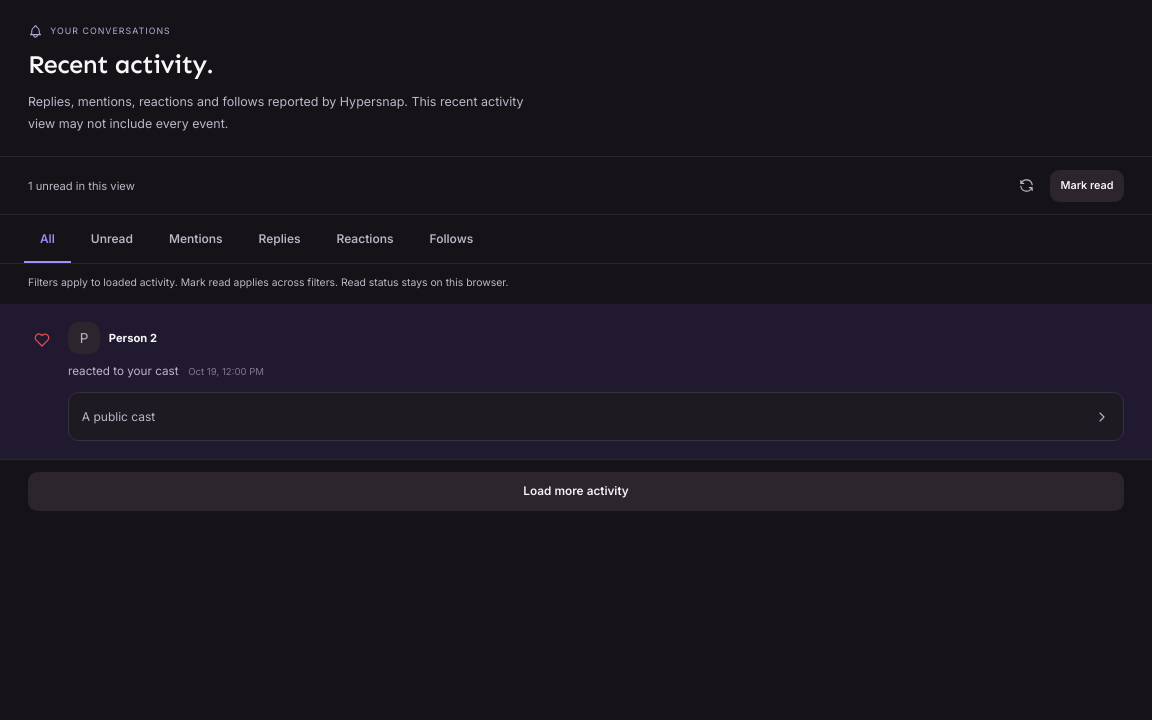
isolated feature panels › filters loaded activity locally, keeps continuation available and marks loaded results read across filters
The image size is (1152, 720).
Click the button "Mentions".
click(196, 239)  # box [153,215,239,263]
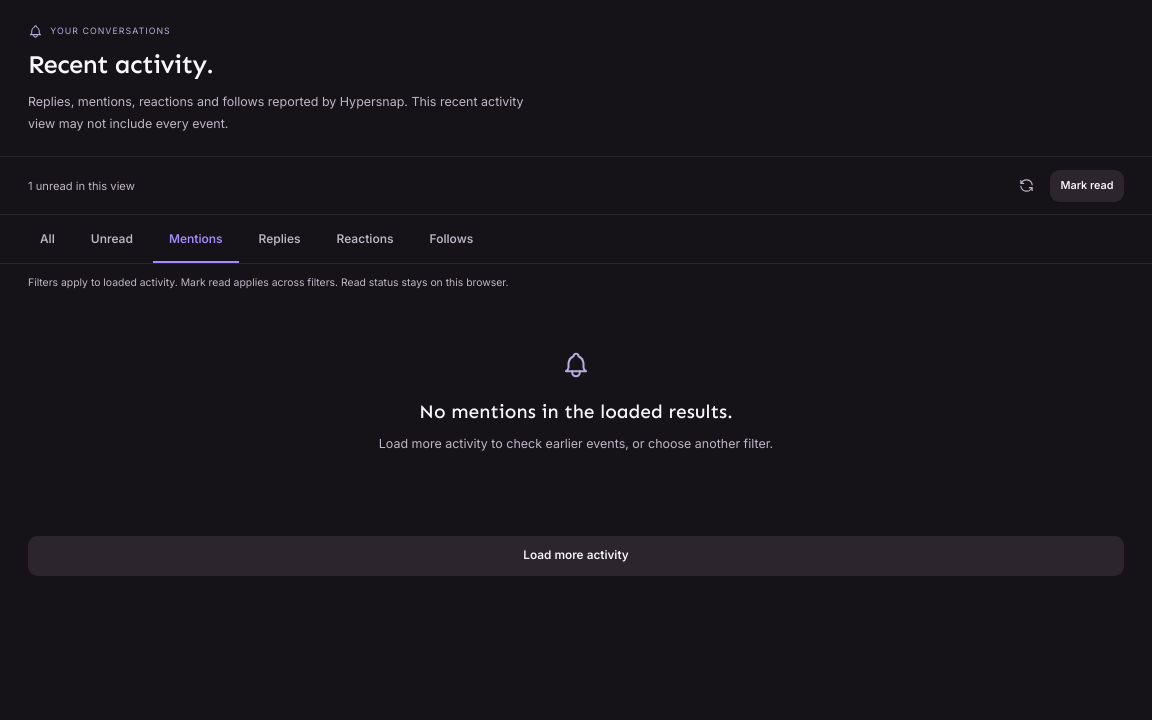
Expected: the text "No mentions in the loaded results." is shown, [419,400,733,423]
Expected: the text "Load more activity to check earlier events" is shown, [379,436,773,451]
Click the button "Load more activity".
click(576, 556)  # box [28,536,1124,576]
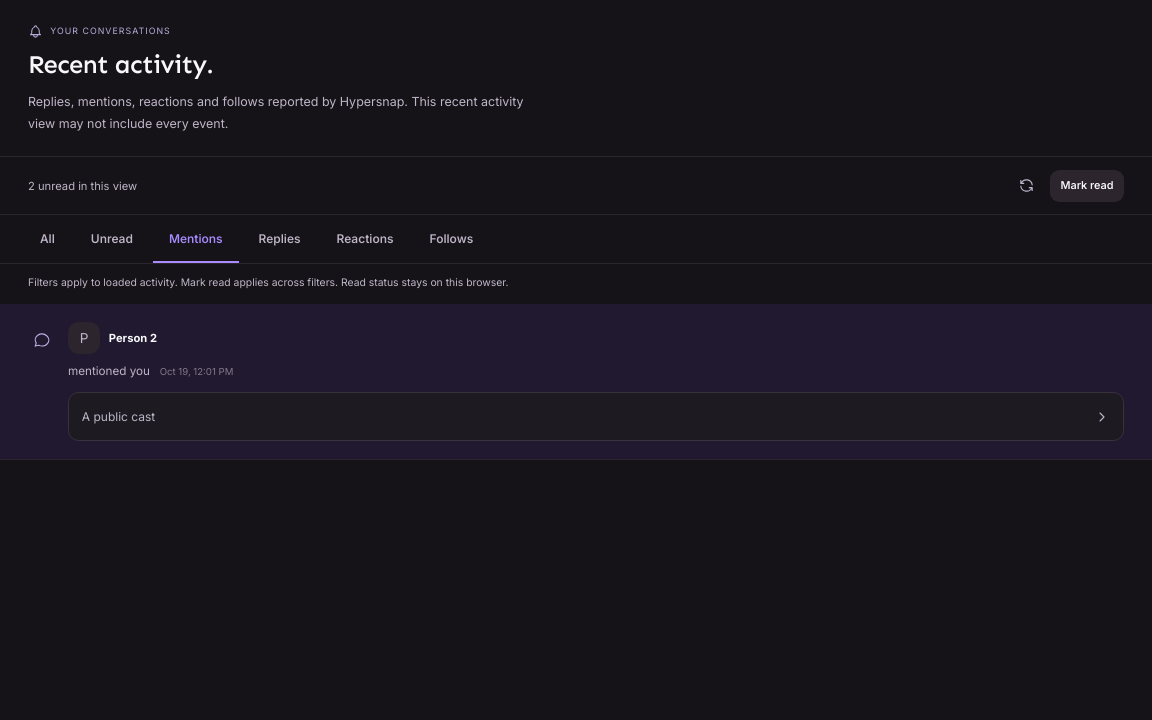
Expected: the number of list items is 1, [0,304,1151,460]
Expected: the list with class "feature-activity" shows "mentioned you", [68,364,150,378]
Click the button "Unread".
click(112, 239)  # box [75,215,149,263]
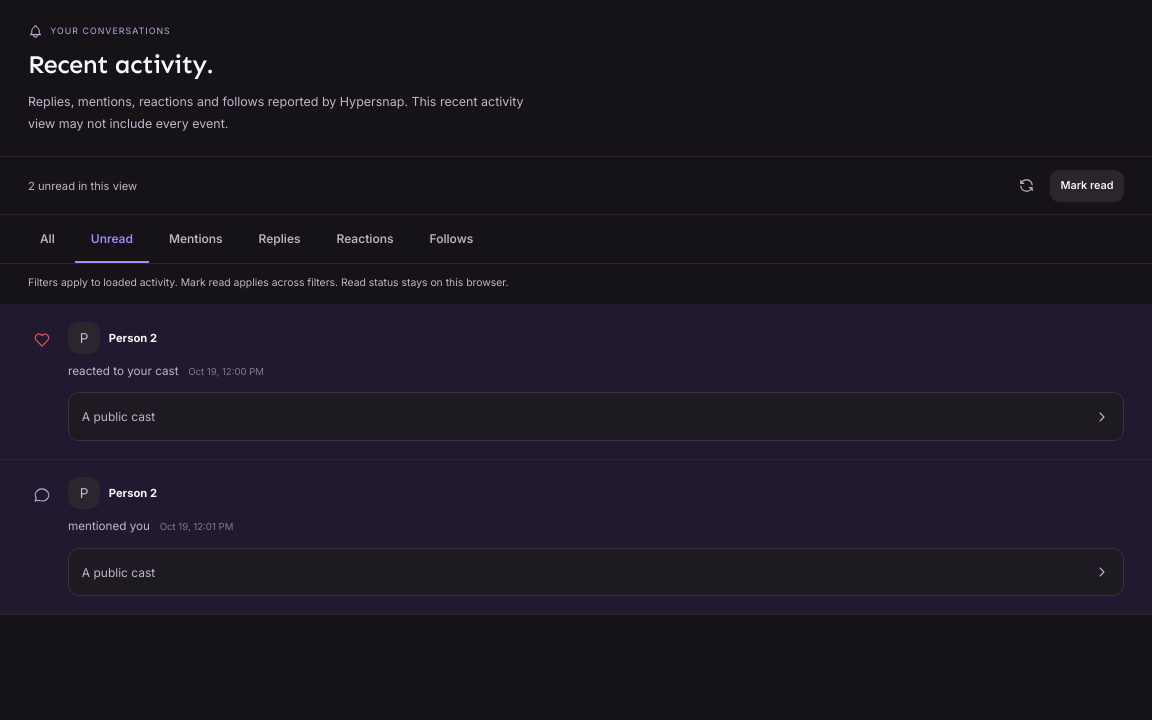
Expected: the number of list items is 2, [0,304,1151,460]; [0,460,1151,615]
Click the button "Mark read".
click(1087, 186)  # box [1050,170,1124,202]
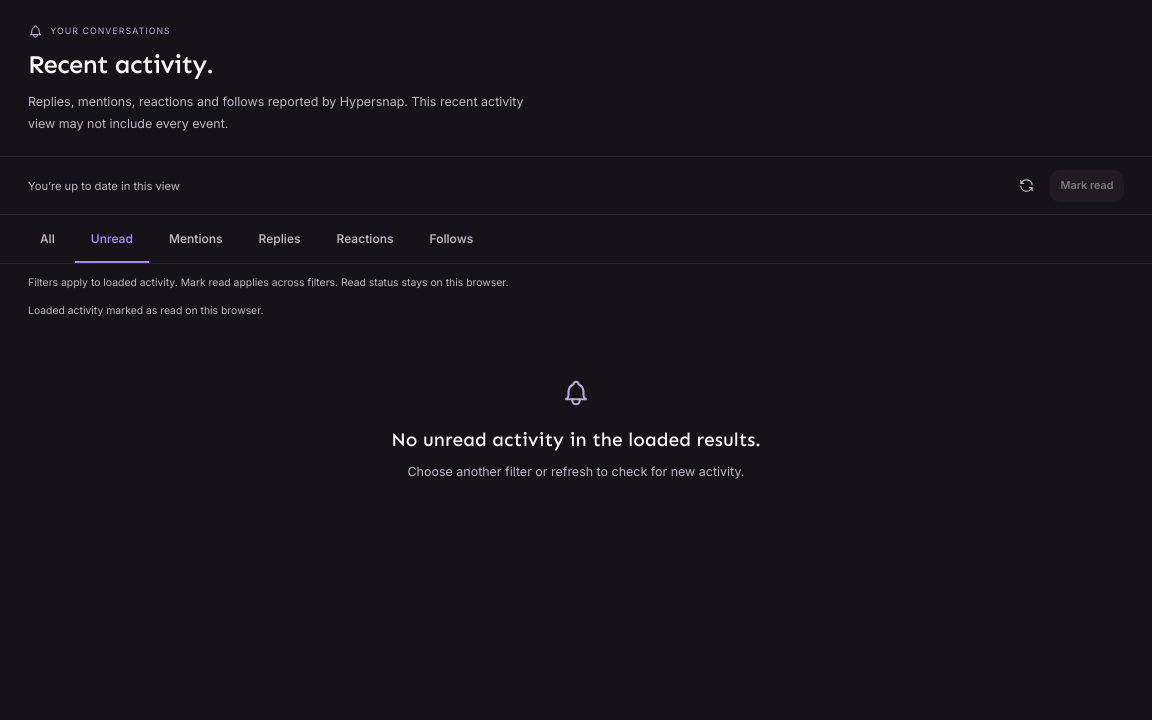
Expected: no list items are shown
Expected: the text "No unread activity in the loaded results." is shown, [391,428,761,450]
Click the button "All".
click(47, 239)  # box [24,215,71,263]
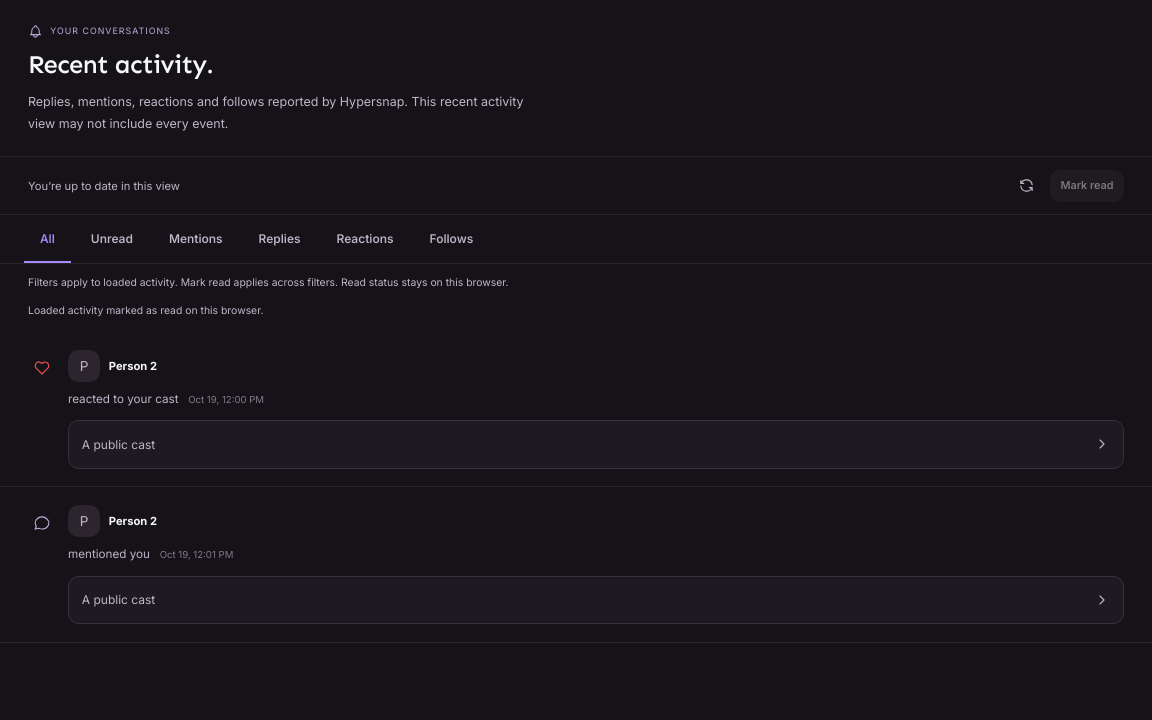
Expected: the number of list items is 2, [0,332,1151,487]; [0,487,1151,643]
